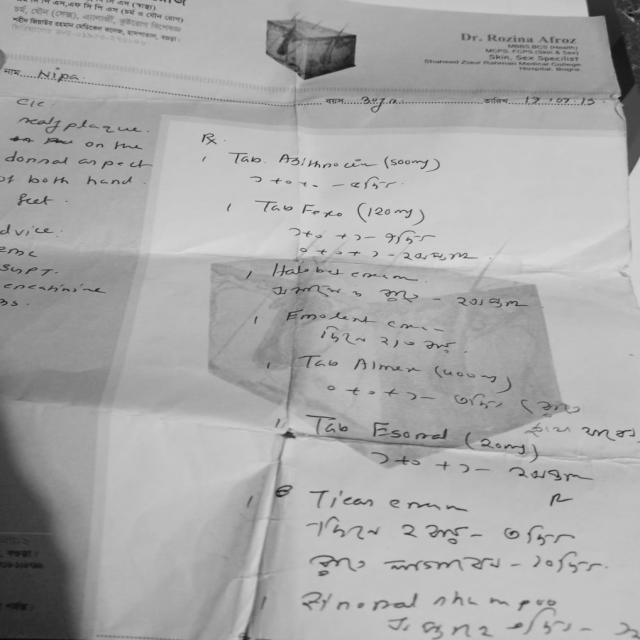medicine: (274, 149, 375, 178), (367, 418, 455, 447), (286, 306, 378, 331), (260, 259, 350, 282), (310, 486, 380, 513), (350, 354, 420, 380), (299, 200, 346, 223)
